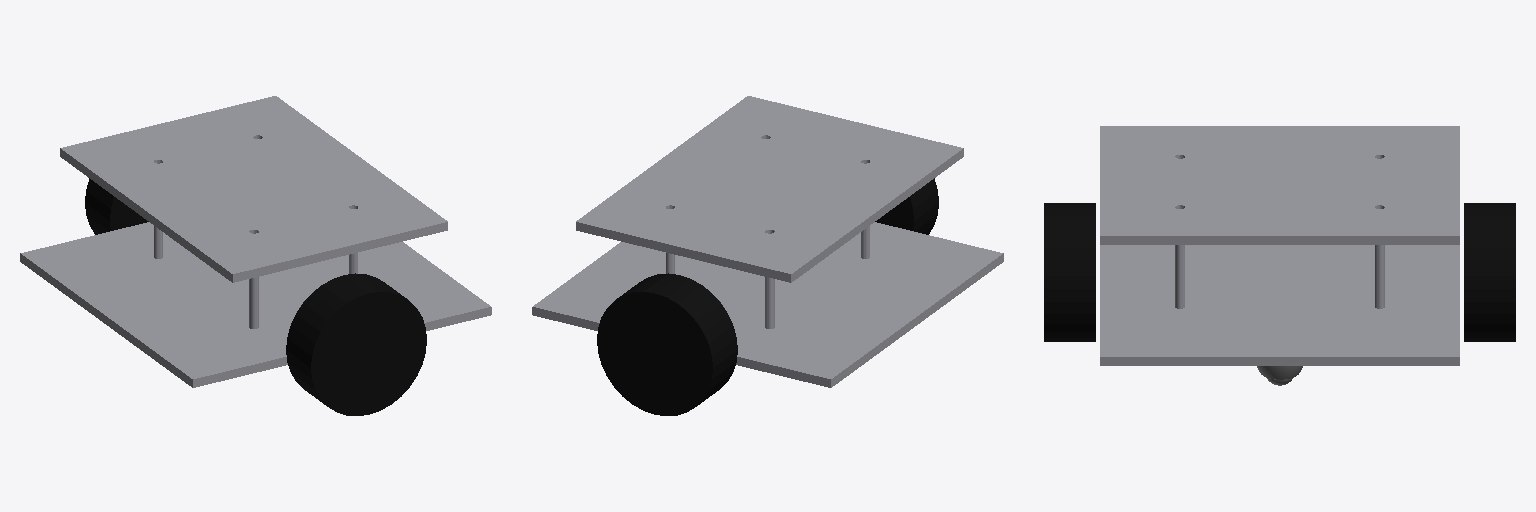
robot.urdf — ms616:
<?xml version="1.0"?>
<robot name="ms616">

  <!-- ============================================================
       MATERIALS
       ============================================================ -->
  <material name="chassis_grey">
    <color rgba="0.65 0.65 0.68 1.0"/>
  </material>
  <material name="wheel_black">
    <color rgba="0.1 0.1 0.1 1.0"/>
  </material>
  <material name="caster_grey">
    <color rgba="0.5 0.5 0.5 1.0"/>
  </material>
  <material name="lidar_dark">
    <color rgba="0.15 0.15 0.15 1.0"/>
  </material>

  <!-- ============================================================
       BASE LINK  (chassis.stl) — origin at wheel-axle midpoint,
       matching the kinematic model's body frame {B}
       ============================================================ -->
  <link name="base_link">
    <visual>
      <origin xyz="0.09 -0.09 0" rpy="0 0 0"/>
      <geometry>
        <mesh filename="package://ms616/meshes/chassis.stl" scale="0.001 0.001 0.001"/>
      </geometry>
      <material name="chassis_grey"/>
    </visual>
    <collision>
      <origin xyz="0 0 0" rpy="0 0 0"/>
      <geometry>
        <mesh filename="package://ms616/meshes/chassis.stl" scale="0.001 0.001 0.001"/>
      </geometry>
    </collision>
    <inertial>
      <mass value="20.0"/>
      <origin xyz="0 0 -0.02" rpy="0 0 0"/>
      <inertia ixx="0.01" ixy="0" ixz="0" iyy="0.015" iyz="0" izz="0.02"/>
    </inertial>
  </link>

  <!-- ============================================================
       LEFT DRIVE WHEEL — cylinder, radius 0.035, at +wheel_L on Y
       ============================================================ -->
  <link name="left_wheel_link">
    <visual>
      <origin xyz="0 0 0" rpy="1.5707963267948966 0 0"/>
      <geometry>
        <cylinder radius="0.035" length="0.026"/>
      </geometry>
      <material name="wheel_black"/>
    </visual>
    <collision>
      <origin xyz="0 0 0" rpy="1.5707963267948966 0 0"/>
      <geometry>
        <cylinder radius="0.035" length="0.026"/>
      </geometry>
    </collision>
    <inertial>
      <mass value="0.15"/>
      <origin xyz="0 0 0" rpy="0 0 0"/>
      <inertia ixx="0.0001" ixy="0" ixz="0" iyy="0.0001" iyz="0" izz="0.00015"/>
    </inertial>
  </link>

  <joint name="left_wheel_joint" type="continuous">
    <parent link="base_link"/>
    <child link="left_wheel_link"/>
    <origin xyz="0 0.105 0.01" rpy="0 0 0"/>
    <axis xyz="0 1 0"/>
  </joint>

  <!-- ============================================================
       RIGHT DRIVE WHEEL — cylinder, radius 0.035, at -wheel_L on Y
       ============================================================ -->
  <link name="right_wheel_link">
    <visual>
      <origin xyz="0 0 0" rpy="1.5707963267948966 0 0"/>
      <geometry>
        <cylinder radius="0.035" length="0.026"/>
      </geometry>
      <material name="wheel_black"/>
    </visual>
    <collision>
      <origin xyz="0 0 0" rpy="1.5707963267948966 0 0"/>
      <geometry>
        <cylinder radius="0.035" length="0.026"/>
      </geometry>
    </collision>
    <inertial>
      <mass value="0.15"/>
      <origin xyz="0 0 0" rpy="0 0 0"/>
      <inertia ixx="0.0001" ixy="0" ixz="0" iyy="0.0001" iyz="0" izz="0.00015"/>
    </inertial>
  </link>

  <joint name="right_wheel_joint" type="continuous">
    <parent link="base_link"/>
    <child link="right_wheel_link"/>
    <origin xyz="0 -0.105 0.01" rpy="0 0 0"/>
    <axis xyz="0 1 0"/>
  </joint>

  <!-- ============================================================
       CASTER WHEEL  (caster.stl) — passive, behind drive axle
       ============================================================ -->
  <link name="caster_link">
    <visual>
      <origin xyz="0 0 0" rpy="0 0 0"/>
      <geometry>
        <mesh filename="package://ms616/meshes/caster.stl" scale="0.001 0.001 0.001"/>
      </geometry>
      <material name="caster_grey"/>
    </visual>
    <collision>
      <origin xyz="0 0 0" rpy="0 0 0"/>
      <geometry>
        <sphere radius="0.0206"/>
      </geometry>
    </collision>
    <inertial>
      <mass value="0.05"/>
      <origin xyz="0 0 0" rpy="0 0 0"/>
      <inertia ixx="0.00002" ixy="0" ixz="0" iyy="0.00002" iyz="0" izz="0.00002"/>
    </inertial>
  </link>

  <joint name="caster_joint" type="fixed">
    <parent link="base_link"/>
    <child link="caster_link"/>
    <origin xyz="-0.055 0 -0.0042" rpy="-1.5707 0 0"/>
  </joint>



    <link name="caster_link_back">
    <visual>
      <origin xyz="0 0 0" rpy="0 0 0"/>
      <geometry>
        <mesh filename="package://ms616/meshes/caster.stl" scale="0.001 0.001 0.001"/>
      </geometry>
      <material name="caster_grey"/>
    </visual>
    <collision>
      <origin xyz="0 0 0" rpy="0 0 0"/>
      <geometry>
        <sphere radius="0.0206"/>
      </geometry>
    </collision>
    <inertial>
      <mass value="0.05"/>
      <origin xyz="0 0 0" rpy="0 0 0"/>
      <inertia ixx="0.00002" ixy="0" ixz="0" iyy="0.00002" iyz="0" izz="0.00002"/>
    </inertial>
  </link>

  <joint name="caster_joint_back" type="fixed">
    <parent link="base_link"/>
    <child link="caster_link_back"/>
    <origin xyz="0.055 0 -0.0042" rpy="-1.5707 0 0"/>
  </joint>

  <!-- ============================================================
       2D LIDAR — mounted at same CAD location as original 3D
       lidar assembly. Visual mesh reused as the physical housing;
       sensor plugin below defines it as a single-plane scanner.
       ============================================================ -->
  <link name="lidar_link">
    <visual>
      <origin xyz="0 0 0" rpy="1.5707 0 0"/>
      <geometry>
        <mesh filename="package://ms616/meshes/Lidar_assy.stl" scale="0.001 0.001 0.001"/>
      </geometry>
      <material name="lidar_dark"/>
    </visual>
    <collision>
      <origin xyz="0 0 0" rpy="0 0 0"/>
      <geometry>
        <cylinder radius="0.038" length="0.04"/>
      </geometry>
    </collision>
    <inertial>
      <mass value="0.15"/>
      <origin xyz="0 0 0" rpy="0 0 0"/>
      <inertia ixx="0.00003" ixy="0" ixz="0" iyy="0.00003" iyz="0" izz="0.00003"/>
    </inertial>
  </link>

  <joint name="lidar_joint" type="fixed">
    <parent link="base_link"/>
    <child link="lidar_link"/>
    <origin xyz="0 0 0.06" rpy="0 0 0"/>
  </joint>

  <!-- Clean sensor frame coincident with lidar_link — this is the
       frame_id that will appear in sensor_msgs/LaserScan -->
  <link name="lidar_scan_frame"/>

  <joint name="lidar_scan_joint" type="fixed">
    <parent link="lidar_link"/>
    <child link="lidar_scan_frame"/>
    <origin xyz="0 0 0" rpy="0 0 0"/>
  </joint>

  <!-- ============================================================
       GAZEBO (Ignition Fortress) — 2D planar lidar sensor plugin

       type="gpu_lidar" — this Fortress build's SdfEntityCreator
       rejects plain type="lidar" for URDF-spawned models ("Sensor
       type LIDAR not supported yet. Try using a GPU LIDAR instead."),
       so gpu_lidar is required here regardless of render backend.
       The original concern (broken EGL/dri2 on this machine causing
       gpu_lidar to silently produce zero data) is addressed at the
       launch level instead: gazebo.launch.py runs the Gazebo SERVER
       with MESA_LOADER_DRIVER_OVERRIDE=llvmpipe + LIBGL_ALWAYS_SOFTWARE=1
       so its Sensors system render thread falls back to software
       rendering, while the GUI process runs separately with the
       working hardware GL path untouched.

       IMPORTANT (Fortress-specific): this sensor will NOT produce
       data unless the WORLD sdf loads the Sensors system plugin:
         <plugin filename="ignition-gazebo-sensors-system"
                 name="ignition::gazebo::systems::Sensors">
           <render_engine>ogre2</render_engine>
         </plugin>
       default_world.sdf (installed with this package) already
       includes this.
       ============================================================ -->
  <gazebo reference="lidar_link">
    <sensor name="lidar_2d" type="gpu_lidar">
      <ignition_frame_id>lidar_scan_frame</ignition_frame_id>
      <pose relative_to="lidar_scan_frame">0 0 0 0 0 0</pose>
      <topic>/model/ms616/sensor/lidar_2d/scan</topic>
      <update_rate>10</update_rate>
      <always_on>1</always_on>
      <visualize>true</visualize>
      <ray>
        <scan>
          <horizontal>
            <samples>360</samples>
            <resolution>1.0</resolution>
            <min_angle>-3.14159</min_angle>
            <max_angle>3.14159</max_angle>
          </horizontal>
        </scan>
        <range>
          <min>0.15</min>
          <max>8.0</max>
          <resolution>0.01</resolution>
        </range>
        <noise>
          <type>gaussian</type>
          <mean>0.0</mean>
          <stddev>0.01</stddev>
        </noise>
      </ray>
    </sensor>
  </gazebo>

  <!-- ============================================================
       ros2_control — diff drive hardware interface
       (swap the <plugin> under <hardware> to your real motor
       driver when you port this to actual hardware)

       NOTE: your installed Gazebo Sim is 6.18.0 = Ignition Fortress.
       Fortress predates the gz_sim/GZ_* rename (that happened in
       Garden/Harmonic) — it uses the ign_ros2_control package and
       ign_ros2_control/IgnitionSystem hardware plugin, NOT
       gz_ros2_control/GazeboSimSystem.
       ============================================================ -->
  <ros2_control name="ms616_system" type="system">
    <hardware>
      <plugin>ign_ros2_control/IgnitionSystem</plugin>
    </hardware>
    <joint name="left_wheel_joint">
      <command_interface name="velocity">
        <param name="min">-10</param>
        <param name="max">10</param>
      </command_interface>
      <state_interface name="position"/>
      <state_interface name="velocity"/>
    </joint>
    <joint name="right_wheel_joint">
      <command_interface name="velocity">
        <param name="min">-10</param>
        <param name="max">10</param>
      </command_interface>
      <state_interface name="position"/>
      <state_interface name="velocity"/>
    </joint>
  </ros2_control>

  <!-- NOTE: ign_ros2_control does NOT resolve package:// URIs — it opens
       this string as a literal filesystem path. __MS616_CONFIG_PATH__ is
       substituted for the real absolute install path by gazebo.launch.py
       before this file is published as robot_description.

       Fortress plugin filename/class: libign_ros2_control-system.so /
       ign_ros2_control::IgnitionROS2ControlPlugin (NOT the Harmonic-era
       gz_ros2_control-system / GazeboSimROS2ControlPlugin). -->
  <gazebo>
    <plugin filename="libign_ros2_control-system.so" name="ign_ros2_control::IgnitionROS2ControlPlugin">
      <parameters>__MS616_CONFIG_PATH__/diff_drive_controller.yaml</parameters>
    </plugin>
  </gazebo>





<link name="imu_link">
  <inertial>
    <!-- Negligible mass/inertia — real IMU boards are ~5-15g -->
    <mass value="0.01"/>
    <inertia ixx="1e-6" ixy="0" ixz="0" iyy="1e-6" iyz="0" izz="1e-6"/>
  </inertial>
  <visual>
    <geometry>
      <box size="0.02 0.02 0.01"/>
    </geometry>
  </visual>
  <collision>
    <geometry>
      <box size="0.02 0.02 0.01"/>
    </geometry>
  </collision>
</link>
 
<joint name="imu_joint" type="fixed">
  <parent link="base_link"/>
  <child link="imu_link"/>
  <!-- CHECK: adjust xyz to your desired IMU mounting position
       relative to base_link's origin -->
  <origin xyz="0 0 0.05" rpy="0 0 0"/>
</joint>
 
<gazebo reference="imu_link">
  <sensor name="imu_sensor" type="imu">

    <always_on>true</always_on>
    <update_rate>100</update_rate>
    <ignition_frame_id>imu_link</ignition_frame_id>
    <topic>imu</topic>
    <!--
      NOISE: deliberately non-zero, matching the hardware-transfer
      goal in the request — a perfect zero-noise sim IMU produces
      an EKF covariance that's meaningless once you move to a real
      IMU. These stddev values are representative of a low-cost
      MEMS IMU (e.g. MPU6050-class); tune down for a higher-grade
      part (e.g. BMI088-class) once you know your real hardware.
    -->
    <imu>
      <angular_velocity>
        <x><noise type="gaussian"><mean>0.0</mean><stddev>0.005</stddev></noise></x>
        <y><noise type="gaussian"><mean>0.0</mean><stddev>0.005</stddev></noise></y>
        <z><noise type="gaussian"><mean>0.0</mean><stddev>0.005</stddev></noise></z>
      </angular_velocity>
      <linear_acceleration>
        <x><noise type="gaussian"><mean>0.0</mean><stddev>0.017</stddev></noise></x>
        <y><noise type="gaussian"><mean>0.0</mean><stddev>0.017</stddev></noise></y>
        <z><noise type="gaussian"><mean>0.0</mean><stddev>0.017</stddev></noise></z>
      </linear_acceleration>
    </imu>
  </sensor>
</gazebo>





</robot>

--- Facts derived from the render (not from the file) ---
The picture shows the robot from 3 angles, left to right: view 1: azimuth 30°, elevation 25°; view 2: azimuth 150°, elevation 25°; view 3: azimuth 270°, elevation 25°; orthographic projection.
Robot: ms616 — 8 links, 7 joints (2 continuous, 5 fixed); root link base_link; default pose: all joints at 0.
Links seen in each view (by area): view 1: base_link, right_wheel_link, left_wheel_link; view 2: base_link, left_wheel_link, right_wheel_link; view 3: base_link, left_wheel_link, right_wheel_link, caster_link_back.
Boxes of the visible links, box(x1,y1,x2,y2) form: base_link: box(20, 96, 491, 387); right_wheel_link: box(286, 273, 426, 415); left_wheel_link: box(85, 178, 148, 234); base_link: box(532, 96, 1003, 387); left_wheel_link: box(597, 273, 737, 415); right_wheel_link: box(875, 178, 938, 234); base_link: box(1100, 126, 1459, 365); left_wheel_link: box(1464, 203, 1515, 341); right_wheel_link: box(1044, 203, 1095, 341); caster_link_back: box(1257, 366, 1302, 385).
Bounding box of the posed robot: 0.18 × 0.236 × 0.0861 m (x, y, z).
Meshes: 3 distinct files referenced, 3 mesh visuals loaded (2 binary STL); not drawn: 1 (reference not matched to a file when rendering).
